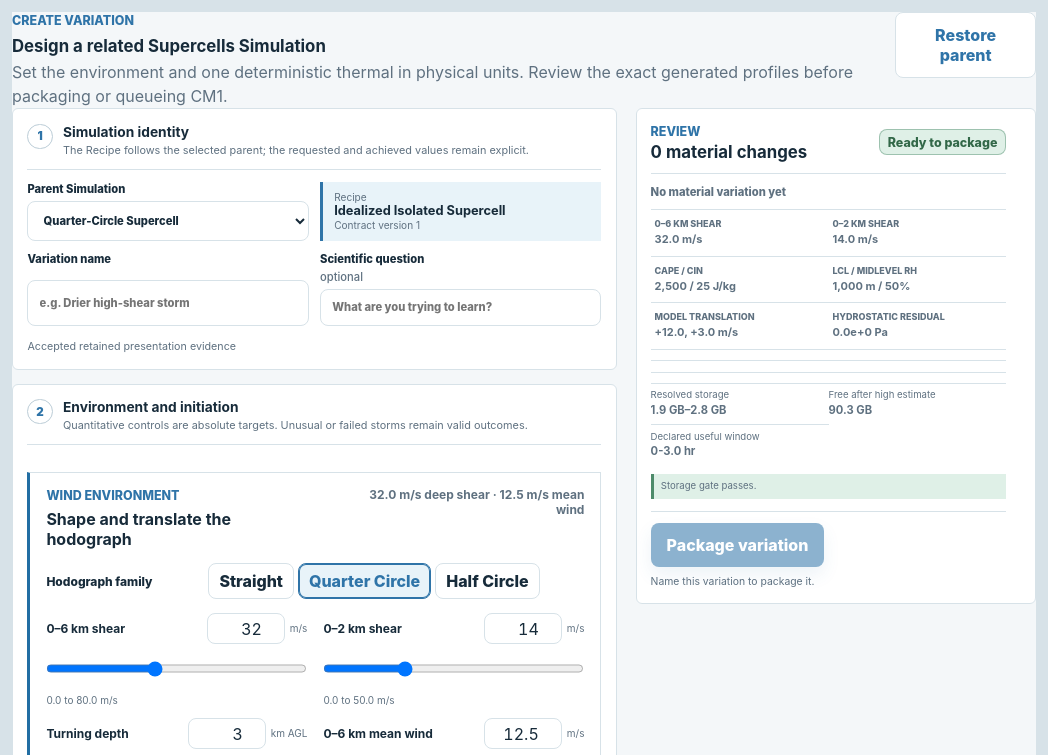
Scenario: SupercellsVariationEditor › uses direct physical controls and backend-derived scientific previews
Expected: the heading "Environment and initiation" is shown, [63, 399, 238, 415]
Replace the text in the number field named "0–6 km shear value" with "60" at (246, 629), box [207, 613, 285, 644]
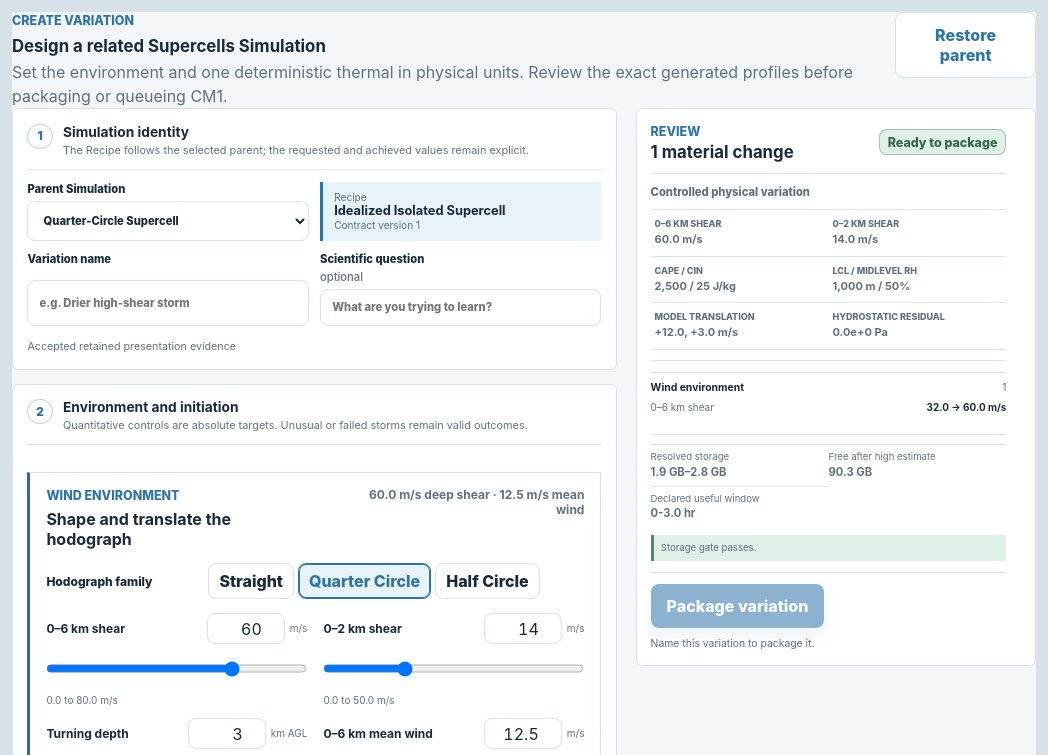
Expected: the text "60.0 m/s" is shown 2 times, [655, 232, 703, 246]; [927, 400, 1006, 415]
Now the heading "1 material change" is shown, box [651, 142, 794, 162]
Now the text "Controlled physical variation" is shown, box [651, 185, 810, 199]
